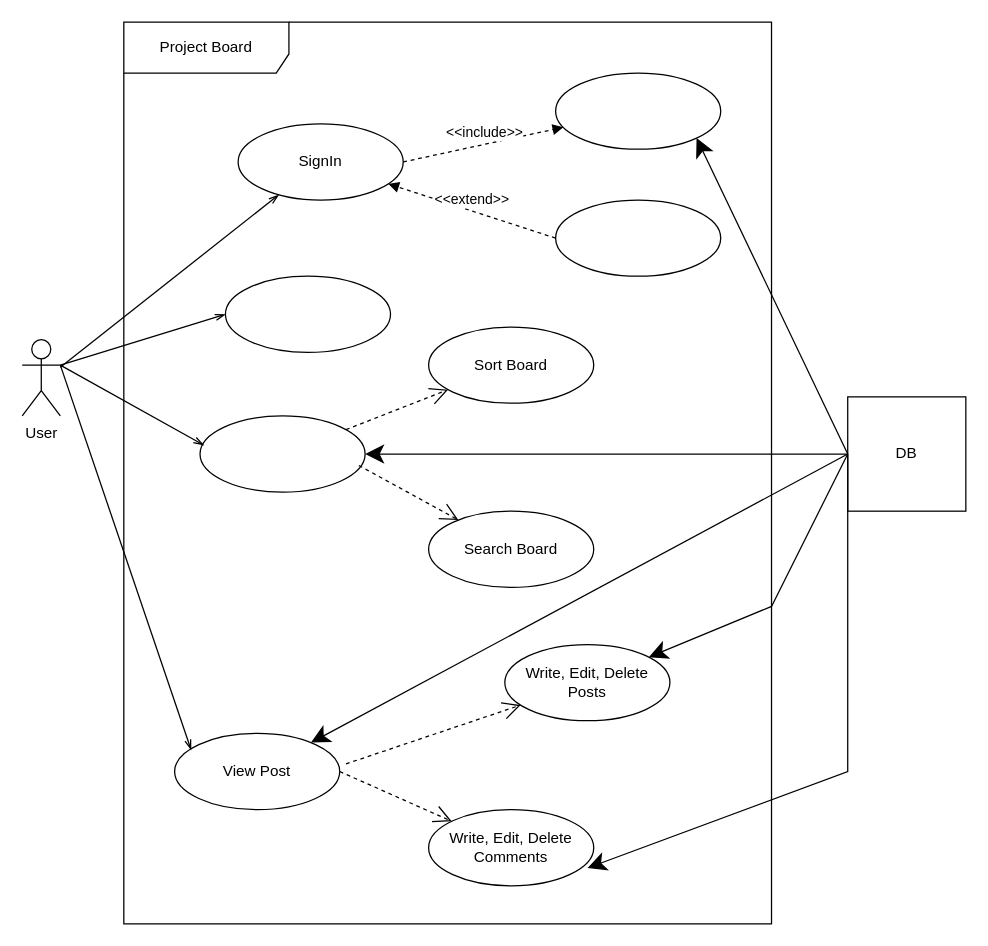
Image size: 988x946. Some labels were removed from this diagram. Here are the shapes that lost their labels. From the top down, the centre of each, then its label:
the point at 637,110: Auth
the point at 637,237: SignIn Failed
the point at 307,313: SignUp
the point at 282,453: View Board
